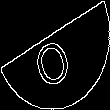O_NW: (32, 22, 78, 88)
